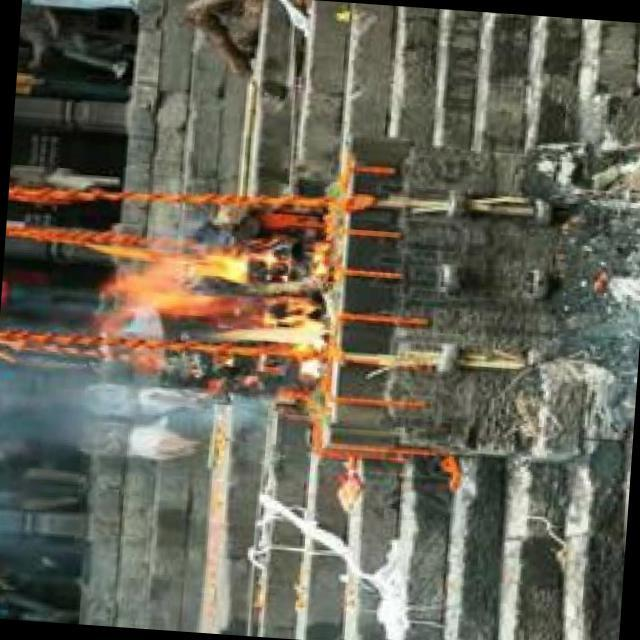Fire: (101, 236, 331, 378)
